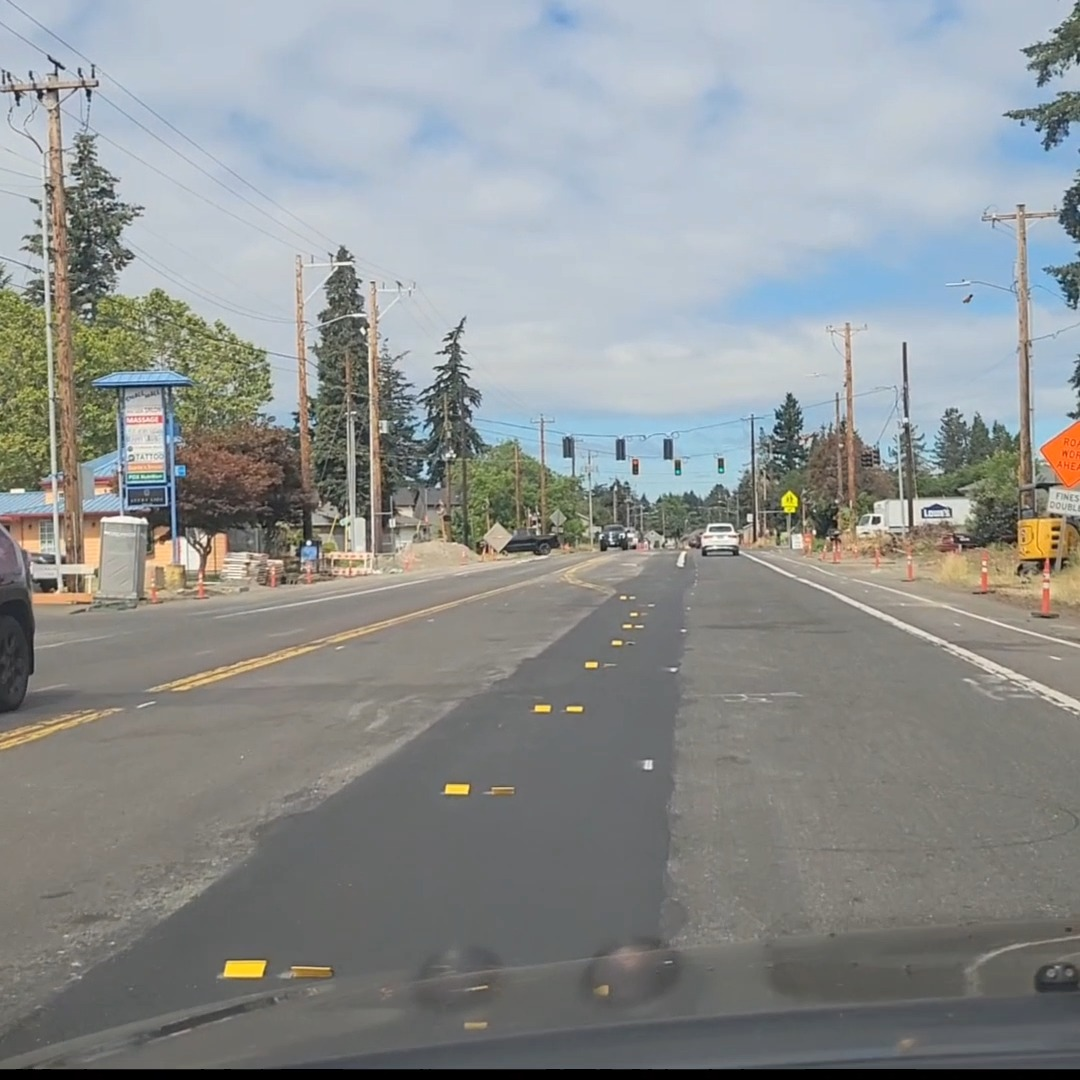car: (0, 515, 35, 706), (500, 527, 562, 556), (27, 550, 68, 592), (698, 523, 739, 556), (597, 524, 635, 550), (935, 530, 980, 551), (683, 530, 704, 547)
crosswalk-sign: (781, 490, 798, 513)
delineator: (1029, 557, 1060, 618), (971, 551, 994, 595), (902, 536, 916, 580), (148, 580, 162, 603), (153, 565, 166, 589), (195, 571, 206, 598), (831, 534, 841, 563), (872, 537, 881, 567), (819, 533, 828, 559), (268, 565, 277, 587), (304, 561, 312, 583), (460, 549, 468, 563)
